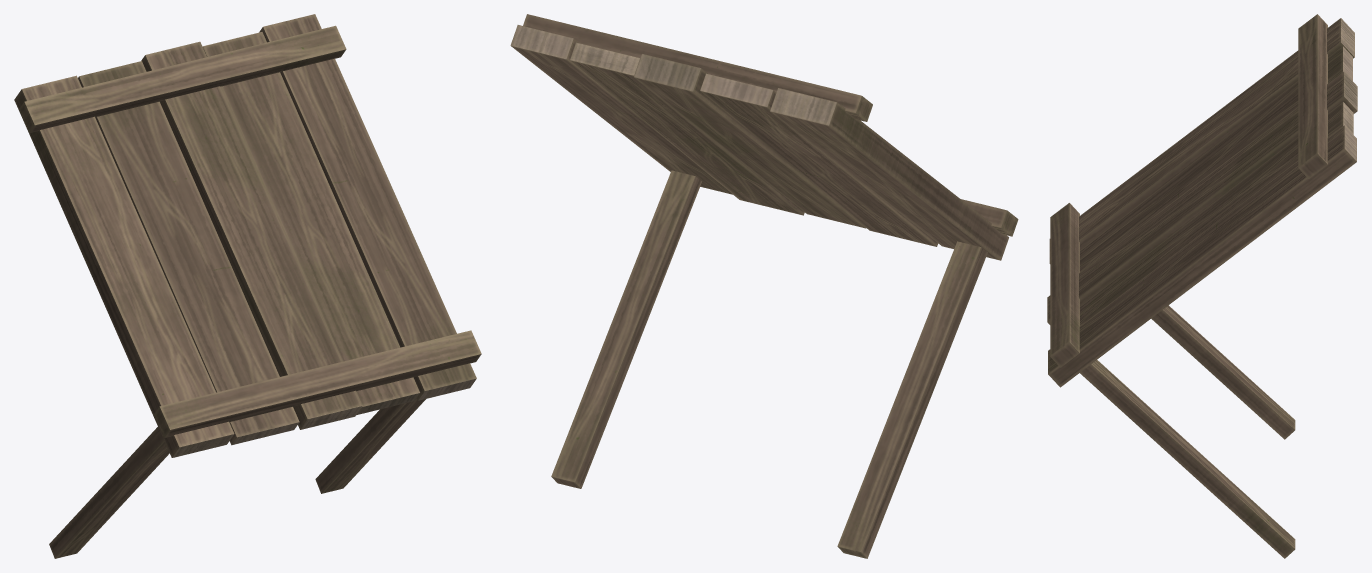
The model's file is SM_windowcover_wooden.fbx.
3 views of the same model, side by side, from view 1: azimuth 30°, elevation 25°; view 2: azimuth 150°, elevation 25°; view 3: azimuth 270°, elevation 25° (orthographic). The views are drawn at different scales.
Visible parts, largest first — view 1: Object32264; view 2: Object32264; view 3: Object32264.
Boxes of the visible parts, x1,y1,x2,y2 form: Object32264: (14, 14, 481, 558); Object32264: (510, 14, 1018, 558); Object32264: (1047, 14, 1357, 558).
Size of the model in its own units: 50.9 by 70.3 by 47.9.
